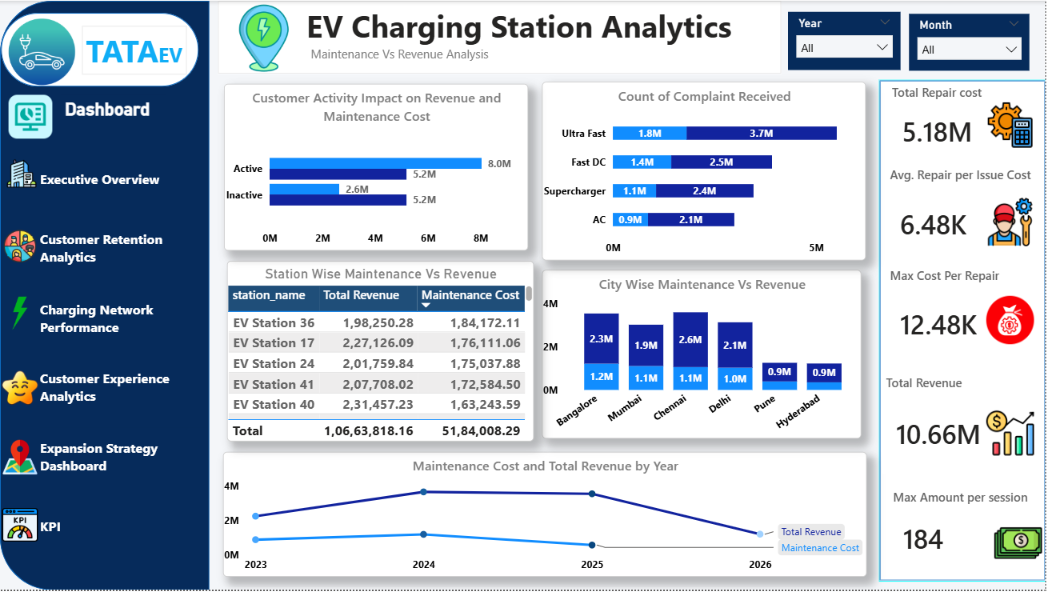

What the dashboard file says about the page in this screenshot:
{"tool":"powerbi","page":{"name":"Maintenance Vs Revenue Analysis","canvas":[1280,720],"ordinal":4},"visuals":[{"type":"shape","box":[1074.6,96.3,205.3,613.5],"z":0},{"type":"group","id":"g1","title":"Group 2","box":[273.1,99.4,787.2,605],"z":1000},{"type":"group","id":"g2","title":"Group 4","box":[266.6,0,688.5,89.3],"z":2000},{"type":"textbox","box":[266.6,0,688.5,89.3],"z":2000,"group":"g2"},{"type":"image","box":[269.4,3.7,107.4,84.4],"z":3000,"group":"g2"},{"type":"cardVisual","title":"Max Cost Per Repair ","fields":{"Data":["Max(maintenance_logs.repair_cost)"]},"box":[1083.4,325,180.6,116.4],"z":3000},{"type":"shape","box":[0,0,256,720.7],"z":3500,"group":"g3"},{"type":"shape","box":[0.9,14.8,241.7,90.2],"z":3750,"group":"g3"},{"type":"cardVisual","title":"Total Repair cost ","fields":{"Data":["Sum(maintenance_logs.repair_cost)"]},"box":[1086.1,101.5,177.2,92.4],"z":4000},{"type":"pageNavigator","box":[49.4,182.5,205.8,495.4],"z":4000,"group":"g3"},{"type":"cardVisual","title":"Avg. Repair per Issue Cost   ","fields":{"Data":["Avg(maintenance_logs.repair_cost)"]},"box":[1083.1,201.5,187.8,119.7],"z":5000},{"type":"image","box":[0,115.3,74.1,53.5],"z":6000,"group":"g3"},{"type":"cardVisual","title":"Total Revenue ","fields":{"Data":["Sum(charging_sessions.amount_paid)"]},"box":[1078.5,456,192.4,122.7],"z":6000},{"type":"cardVisual","title":"Max Amount per session","fields":{"Data":["customers(1).Previous Year churn"]},"box":[1087.6,596.8,183.3,100],"z":7000},{"type":"group","id":"g3","title":"Group 3","box":[0,0,256,720.7],"z":8000},{"type":"textbox","box":[74.1,115.3,129,48],"z":8000,"group":"g3"},{"type":"slicer","fields":{"Values":["Date Table.Date.Variation.Date Hierarchy.Year"]},"box":[964.2,14,137.7,71],"z":9000},{"type":"slicer","fields":{"Values":["Date Table.Date.Variation.Date Hierarchy.Month"]},"box":[1111.7,15.3,147.5,69.6],"z":10000},{"type":"image","box":[1199.7,122.7,71.2,59.1],"z":11000},{"type":"image","box":[4.1,193.5,45.3,35.7],"z":12000,"group":"g3"},{"type":"image","box":[1199.7,240.9,71.2,59.1],"z":12000},{"type":"lineChart","fields":{"Y":["Sum(maintenance_logs.repair_cost)","Sum(charging_sessions.amount_paid)"],"Category":["Date Table.Date.Variation.Date Hierarchy.Year","Date Table.Date.Variation.Date Hierarchy.Quarter"]},"box":[273.1,551.4,787.2,153],"z":12250,"group":"g4"},{"type":"image","box":[1199.7,360.5,71.2,59.1],"z":13000},{"type":"image","box":[0,278.6,49.4,42.5],"z":14000,"group":"g3"},{"type":"image","box":[1199.7,498.4,71.2,59.1],"z":14000},{"type":"textbox","box":[99.8,30.5,129.4,59.6],"z":14500,"group":"g3"},{"type":"image","box":[1208.8,633.2,71.2,59.1],"z":15000},{"type":"image","box":[2.7,20.3,97,83.4],"z":15500,"group":"g3"},{"type":"columnChart","title":"City Wise Maintenance Vs Revenue ","fields":{"Category":["stations.city"],"Y":["Sum(maintenance_logs.repair_cost)","Sum(charging_sessions.amount_paid)"]},"box":[663.7,329.3,390.6,206.7],"z":16000,"group":"g4"},{"type":"image","box":[0,360.9,49.4,42.5],"z":16000,"group":"g3"},{"type":"group","id":"g4","title":"Group 1","box":[273.1,99.4,787.2,605],"z":16001,"group":"g1"},{"type":"tableEx","title":"Station Wise Maintenance Vs Revenue ","fields":{"Values":["stations.station_name","Sum(charging_sessions.amount_paid)","Sum(maintenance_logs.repair_cost)"]},"box":[278.2,318.2,374.9,220.9],"z":16062,"group":"g4"},{"type":"barChart","title":"Count of Complaint Received ","fields":{"Category":["stations.charger_type"],"Y":["Sum(maintenance_logs.repair_cost)","Sum(charging_sessions.amount_paid)"]},"box":[663.5,99.4,396.3,218.1],"z":16125,"group":"g4"},{"type":"clusteredBarChart","title":"Customer Activity Impact on Revenue and Maintenance Cost","fields":{"Category":["customers(1).Customer Status"],"Y":["Sum(charging_sessions.amount_paid)","Sum(maintenance_logs.repair_cost)"]},"box":[274.5,101.3,372,203.8],"z":16250,"group":"g4"},{"type":"image","box":[0,451.5,49.4,43.9],"z":19000,"group":"g3"},{"type":"image","box":[0,536.5,49.4,42.5],"z":20000,"group":"g3"},{"type":"image","box":[0,618.9,49.4,43.9],"z":21000,"group":"g3"}]}

Visuals, with their boxes on the page's 1280x720 design canvas (x1, y1, x2, y2). These are canvas units, not pixel positions in the 1047x592 screenshot, which may show the page scaled, cropped or inside an application window:
shape: bbox(1075, 96, 1280, 710)
"Group 2" group: bbox(273, 99, 1060, 704)
"Group 4" group: bbox(267, 0, 955, 89)
textbox: bbox(267, 0, 955, 89)
image: bbox(269, 4, 377, 88)
"Max Cost Per Repair " cardVisual: bbox(1083, 325, 1264, 441)
shape: bbox(0, 0, 256, 721)
shape: bbox(1, 15, 243, 105)
"Total Repair cost " cardVisual: bbox(1086, 102, 1263, 194)
pageNavigator: bbox(49, 182, 255, 678)
"Avg. Repair per Issue Cost   " cardVisual: bbox(1083, 202, 1271, 321)
image: bbox(0, 115, 74, 169)
"Total Revenue " cardVisual: bbox(1078, 456, 1271, 579)
"Max Amount per session" cardVisual: bbox(1088, 597, 1271, 697)
"Group 3" group: bbox(0, 0, 256, 721)
textbox: bbox(74, 115, 203, 163)
slicer - Date Table.Date.Variation.Date Hierarchy.Year: bbox(964, 14, 1102, 85)
slicer - Date Table.Date.Variation.Date Hierarchy.Month: bbox(1112, 15, 1259, 85)
image: bbox(1200, 123, 1271, 182)
image: bbox(4, 194, 49, 229)
image: bbox(1200, 241, 1271, 300)
lineChart - Sum(maintenance_logs.repair_cost) x Sum(charging_sessions.amount_paid): bbox(273, 551, 1060, 704)
image: bbox(1200, 360, 1271, 420)
image: bbox(0, 279, 49, 321)
image: bbox(1200, 498, 1271, 558)
textbox: bbox(100, 30, 229, 90)
image: bbox(1209, 633, 1280, 692)
image: bbox(3, 20, 100, 104)
"City Wise Maintenance Vs Revenue " columnChart: bbox(664, 329, 1054, 536)
image: bbox(0, 361, 49, 403)
"Group 1" group: bbox(273, 99, 1060, 704)
"Station Wise Maintenance Vs Revenue " tableEx: bbox(278, 318, 653, 539)
"Count of Complaint Received " barChart: bbox(664, 99, 1060, 318)
"Customer Activity Impact on Revenue and Maintenance Cost" clusteredBarChart: bbox(274, 101, 646, 305)
image: bbox(0, 452, 49, 495)
image: bbox(0, 536, 49, 579)
image: bbox(0, 619, 49, 663)
